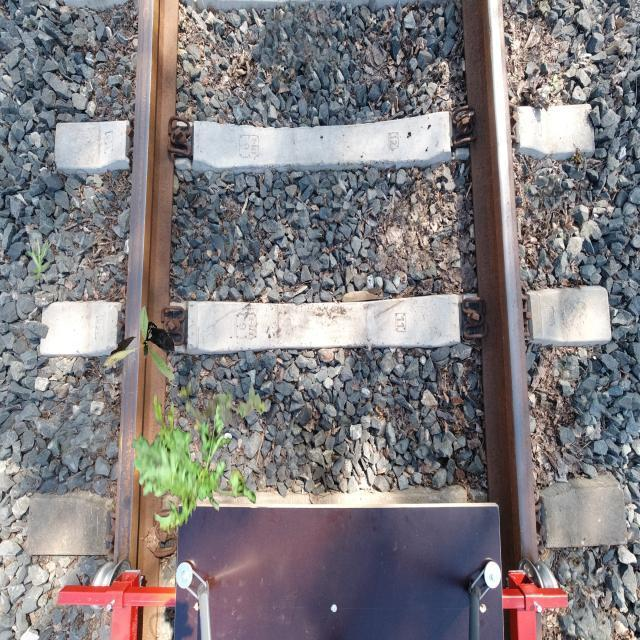Plant: (131, 391, 256, 538), (103, 306, 174, 381), (179, 380, 266, 432), (27, 238, 54, 280)
